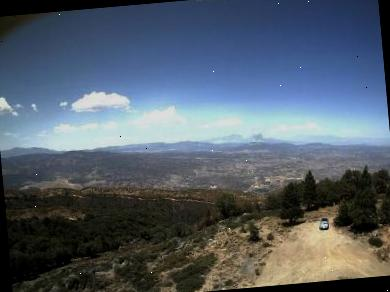smoke: (244, 130, 266, 147)
